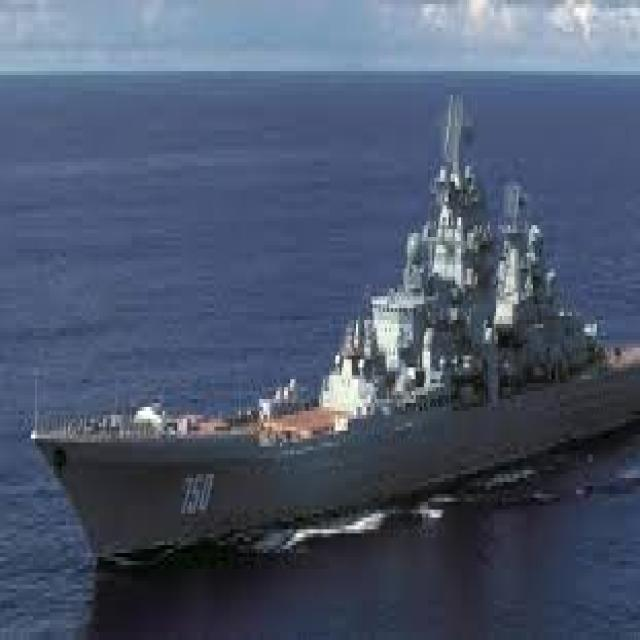navalvessels: (20, 75, 640, 589)
